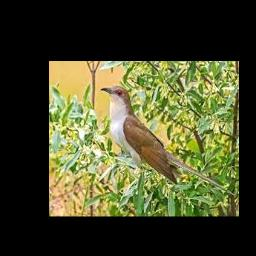Cuckoo: (99, 85, 234, 196)
